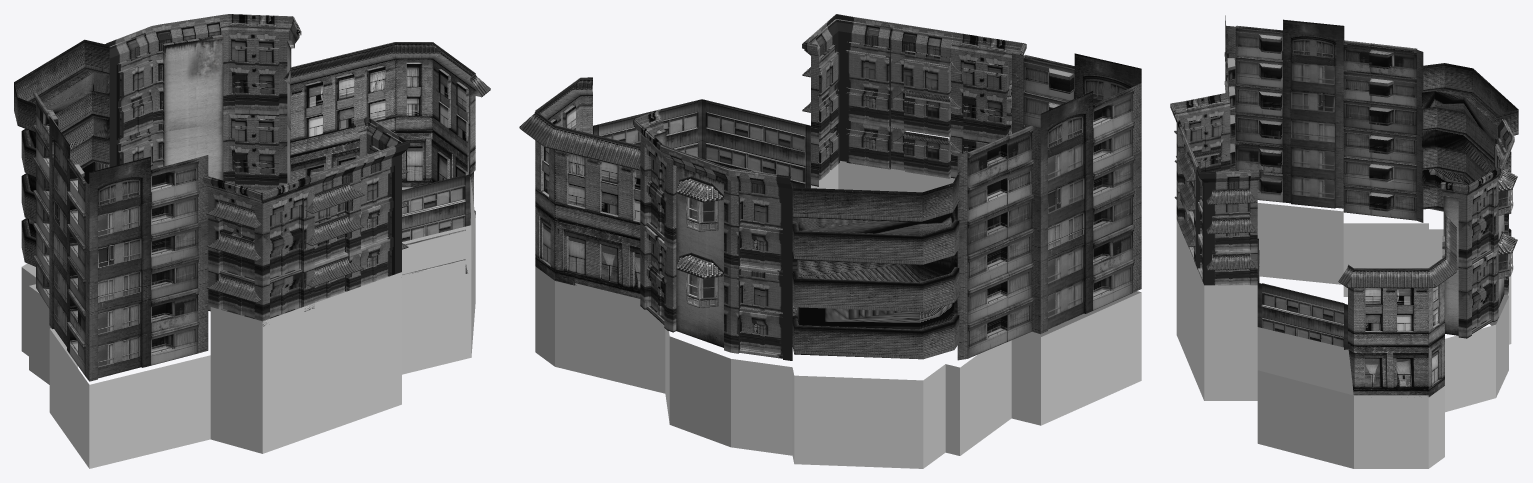
File: chiantown_block_2.fbx
3 renders of one model, left to right at view 1: azimuth 30°, elevation 25°; view 2: azimuth 150°, elevation 25°; view 3: azimuth 270°, elevation 25°, orthographic. The views are drawn at different scales.
Visible parts, largest first — view 1: greyblock_wall, chinatown_building_3, chinatown_building_1, chinatown_building_4, chinatown_building_5, chinatown_building_2, chinatown_building_6; view 2: greyblock_wall, chinatown_building_3, chinatown_building_1, chinatown_building_4, chinatown_building_2, chinatown_building_5, chinatown_building_6; view 3: greyblock_wall, chinatown_building_3, chinatown_building_5, chinatown_building_4, chinatown_building_1, chinatown_building_2, chinatown_building_6.
Boxes of the visible parts, x1,y1,x2,y2 form: greyblock_wall: [21, 177, 475, 468]; chinatown_building_3: [33, 89, 208, 381]; chinatown_building_1: [105, 14, 301, 192]; chinatown_building_4: [203, 117, 409, 326]; chinatown_building_5: [283, 42, 490, 224]; chinatown_building_2: [14, 39, 109, 266]; chinatown_building_6: [402, 123, 470, 275]; greyblock_wall: [535, 158, 1141, 468]; chinatown_building_3: [957, 53, 1141, 360]; chinatown_building_1: [633, 109, 792, 360]; chinatown_building_4: [802, 14, 1026, 186]; chinatown_building_2: [792, 172, 959, 359]; chinatown_building_5: [519, 77, 640, 298]; chinatown_building_6: [593, 99, 810, 188]; greyblock_wall: [1176, 203, 1511, 468]; chinatown_building_3: [1224, 15, 1423, 222]; chinatown_building_5: [1338, 212, 1456, 396]; chinatown_building_4: [1170, 92, 1263, 285]; chinatown_building_1: [1440, 114, 1517, 338]; chinatown_building_2: [1422, 63, 1518, 236]; chinatown_building_6: [1257, 238, 1347, 349].
Size of the model in its own units: 3971 by 2386 by 2908.
